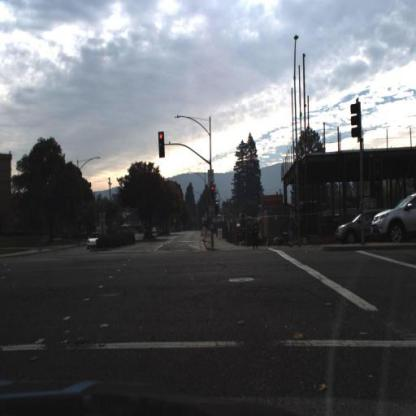car: (369, 186, 416, 245), (335, 206, 384, 246), (77, 223, 105, 258), (139, 221, 153, 239), (151, 222, 161, 236)
pedestrian: (289, 217, 295, 246), (254, 221, 259, 249)
trafficLight-Red: (159, 133, 165, 159), (212, 186, 217, 202)
